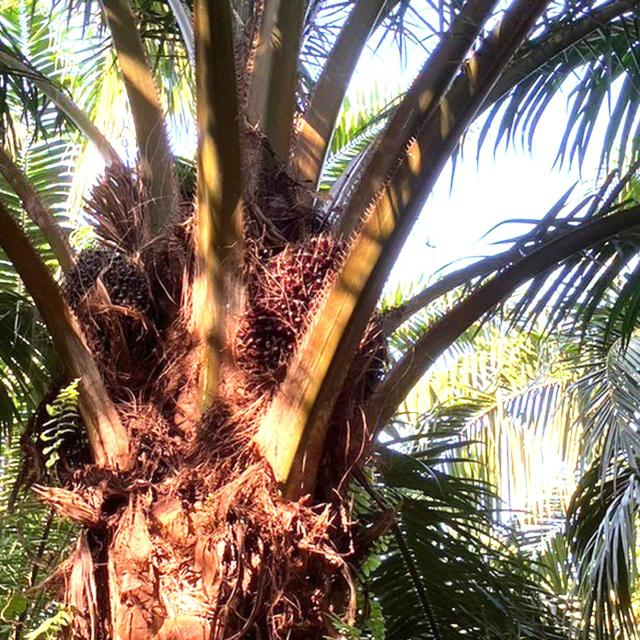ripe: (254, 233, 334, 346)
